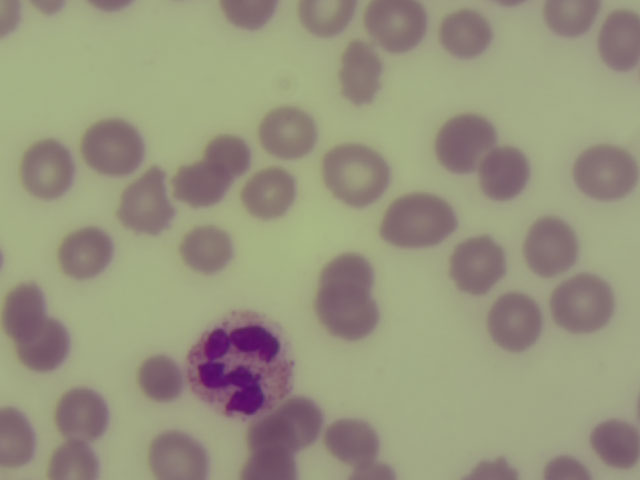RBC: (381, 194, 458, 247), (338, 33, 386, 107), (489, 291, 543, 349), (147, 433, 212, 480), (368, 1, 427, 52), (170, 162, 234, 209), (578, 143, 631, 199), (477, 143, 530, 199), (439, 113, 492, 169), (330, 144, 383, 200), (326, 412, 379, 468), (270, 391, 323, 447), (133, 350, 186, 406), (55, 386, 108, 442), (14, 315, 67, 371), (60, 224, 113, 280), (179, 220, 232, 276), (243, 165, 296, 221), (118, 175, 171, 231), (260, 102, 313, 158), (438, 7, 491, 63), (85, 119, 138, 175), (19, 142, 72, 198), (556, 275, 609, 331), (524, 217, 577, 273), (453, 235, 506, 291), (317, 285, 370, 341), (1, 278, 53, 334), (1, 401, 38, 470), (588, 418, 640, 467), (323, 248, 372, 297), (600, 13, 640, 72), (45, 440, 103, 480), (217, 1, 286, 34), (541, 1, 600, 38), (240, 445, 300, 480), (206, 132, 253, 175), (298, 1, 359, 34), (531, 448, 589, 480)
WBC: (188, 313, 286, 422)
